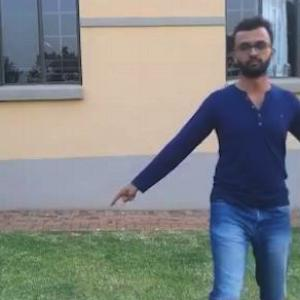land: (118, 41, 299, 299)
